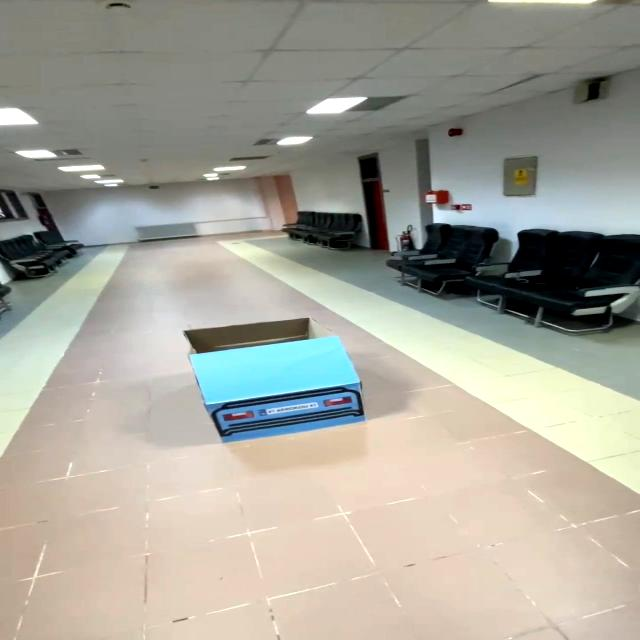blue_car: (157, 308, 389, 454)
